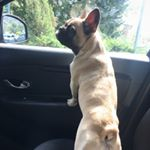puppy: (52, 2, 126, 150)
